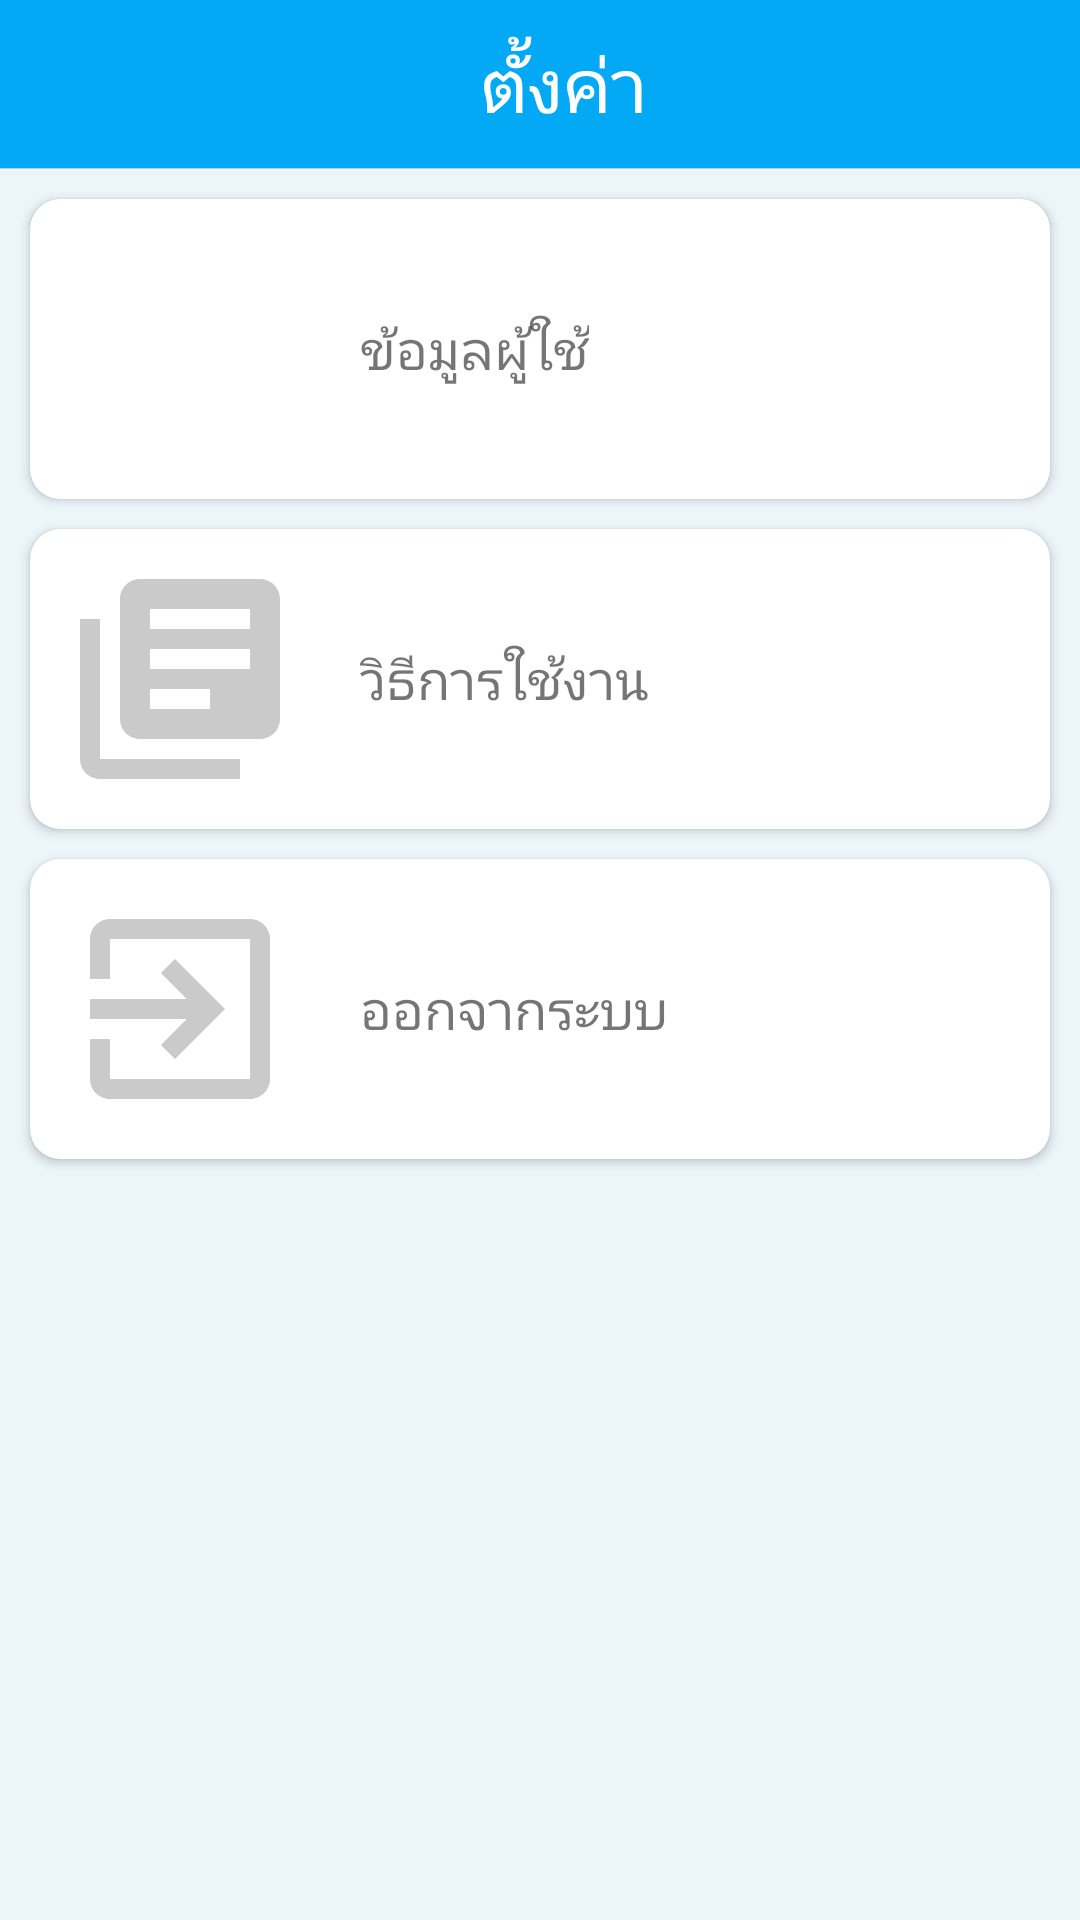

Screen size 1080×1920. Icon name, then its box in pixels as (x1, y1, x2, y2):
exit to app: (90, 919, 270, 1099)
library books: (80, 579, 280, 779)
